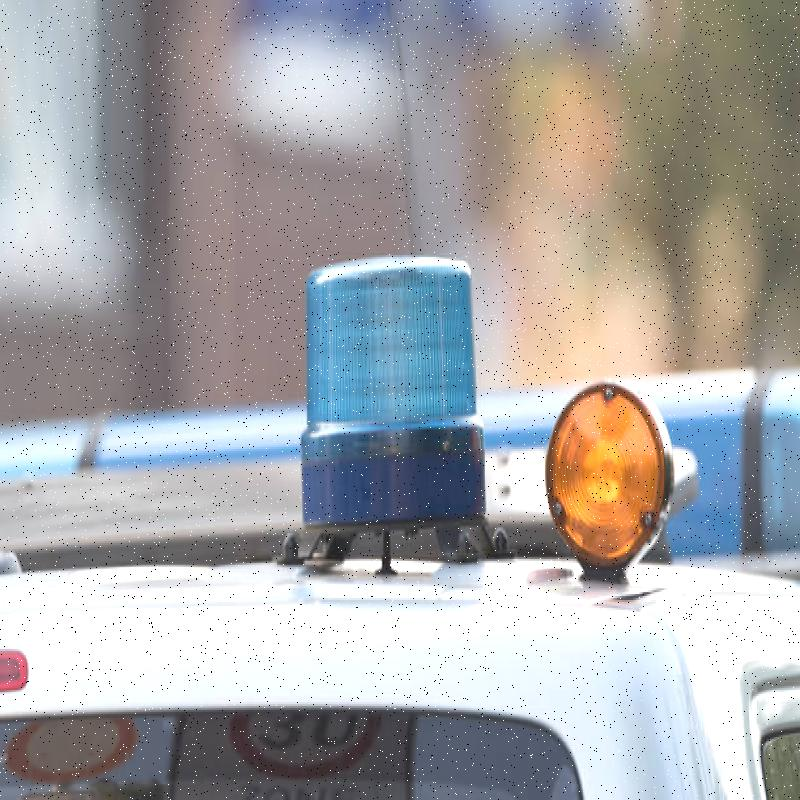AmbulanceSiren: (279, 221, 524, 584)
